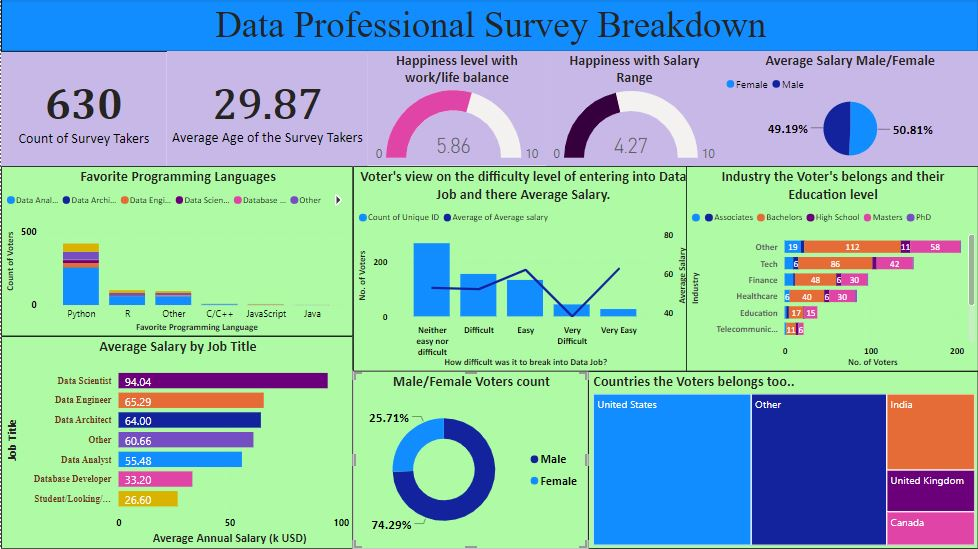

The dashboard page shown, as its layout file describes it:
{"tool":"powerbi","page":{"name":"Page 1","canvas":[1280,720],"ordinal":0},"visuals":[{"type":"textbox","box":[0,0,1280.2,69.1],"z":0},{"type":"card","fields":{"Values":["CountNonNull(Data Professional Survey.Unique ID)"]},"box":[0,69.1,217.4,149.8],"z":1000},{"type":"card","fields":{"Values":["Avg(Data Professional Survey.Q10 - Current Age)"]},"box":[217.1,68.6,262.9,151.4],"z":2000},{"type":"barChart","title":"Average Salary by Job Title","fields":{"Category":["Data Professional Survey.Q1 - Which Title Best Fits your Current Role?.1"],"Y":["Avg(Data Professional Survey.Average salary)"],"Series":["Data Professional Survey.Q1 - Which Title Best Fits your Current Role?.1"]},"box":[0,441.4,461.4,278.6],"z":3000},{"type":"columnChart","title":"Favorite Programming Languages","fields":{"Category":["Data Professional Survey.Q5 - Favorite Programming Language.1"],"Y":["CountNonNull(Data Professional Survey.Unique ID)"],"Series":["Data Professional Survey.Q1 - Which Title Best Fits your Current Role?.1"]},"box":[0,218.6,461.4,222.9],"z":4000},{"type":"treemap","title":"Countries the Voters belongs too..","fields":{"Group":["Data Professional Survey.Q11 - Which Country do you live in?.1"],"Values":["CountNonNull(Data Professional Survey.Unique ID)"]},"box":[769,486.7,511.2,233.3],"z":5000},{"type":"gauge","title":"Happiness level with work/life balance","fields":{"Y":["Avg(Data Professional Survey.Q6 - How Happy are you in your Current Position with the following? (Coworkers))"],"MinValue":["Min(Data Professional Survey.Q6 - How Happy are you in your Current Position with the following? (Coworkers))1"],"MaxValue":["Max(Data Professional Survey.Q6 - How Happy are you in your Current Position with the following? (Coworkers))2"]},"box":[480,68.6,232.9,150],"z":6000},{"type":"gauge","title":"Happiness with Salary Range","fields":{"Y":["Avg(Data Professional Survey.Q6 - How Happy are you in your Current Position with the following? (Salary))"],"MinValue":["Min(Data Professional Survey.Q6 - How Happy are you in your Current Position with the following? (Salary))"],"MaxValue":["Max(Data Professional Survey.Q6 - How Happy are you in your Current Position with the following? (Salary))"]},"box":[712.9,68.6,231.4,151.4],"z":7000},{"type":"donutChart","title":"Male/Female Voters count","fields":{"Category":["Data Professional Survey.Q9 - Male/Female?"],"Y":["CountNonNull(Data Professional Survey.Unique ID)"]},"box":[460.8,486.7,308.2,233.3],"z":8000},{"type":"pieChart","title":"Average Salary Male/Female","fields":{"Category":["Data Professional Survey.Q9 - Male/Female?"],"Y":["Avg(Data Professional Survey.Average salary)"]},"box":[944.3,68.6,335.7,151.4],"z":9000},{"type":"lineClusteredColumnComboChart","title":"Voter''s view on the difficulty level of entering into Data Job and there Average Salary.","fields":{"Category":["Data Professional Survey.Q7 - How difficult was it for you to break into Data?"],"Y":["CountNonNull(Data Professional Survey.Unique ID)"],"Y2":["Avg(Data Professional Survey.Average salary)"]},"box":[461.4,218.6,444.3,268.6],"z":10000},{"type":"barChart","title":"Industry the Voter''s belongs and their Education level","fields":{"Category":["Data Professional Survey.Q4 - What Industry do you work in?.1"],"Y":["CountNonNull(Data Professional Survey.Unique ID)"],"Series":["Data Professional Survey.Q12 - Highest Level of Education"]},"box":[897.1,218.6,382.9,268.6],"z":11000}]}

Visuals, with their boxes in screenshot pixels (x1, y1, x2, y2), scaled from the page's 1280x720 canvas onto the 978x549 screenshot:
textbox: (0, 0, 977, 53)
card - CountNonNull(Data Professional Survey.Unique ID): (0, 53, 166, 167)
card - Avg(Data Professional Survey.Q10 - Current Age): (166, 52, 367, 168)
"Average Salary by Job Title" barChart: (0, 337, 353, 548)
"Favorite Programming Languages" columnChart: (0, 167, 353, 337)
"Countries the Voters belongs too.." treemap: (588, 371, 977, 548)
"Happiness level with work/life balance" gauge: (367, 52, 545, 167)
"Happiness with Salary Range" gauge: (545, 52, 722, 168)
"Male/Female Voters count" donutChart: (352, 371, 588, 548)
"Average Salary Male/Female" pieChart: (722, 52, 977, 168)
"Voter''s view on the difficulty level of entering into Data Job and there Average Salary." lineClusteredColumnComboChart: (353, 167, 692, 371)
"Industry the Voter''s belongs and their Education level" barChart: (685, 167, 977, 371)
